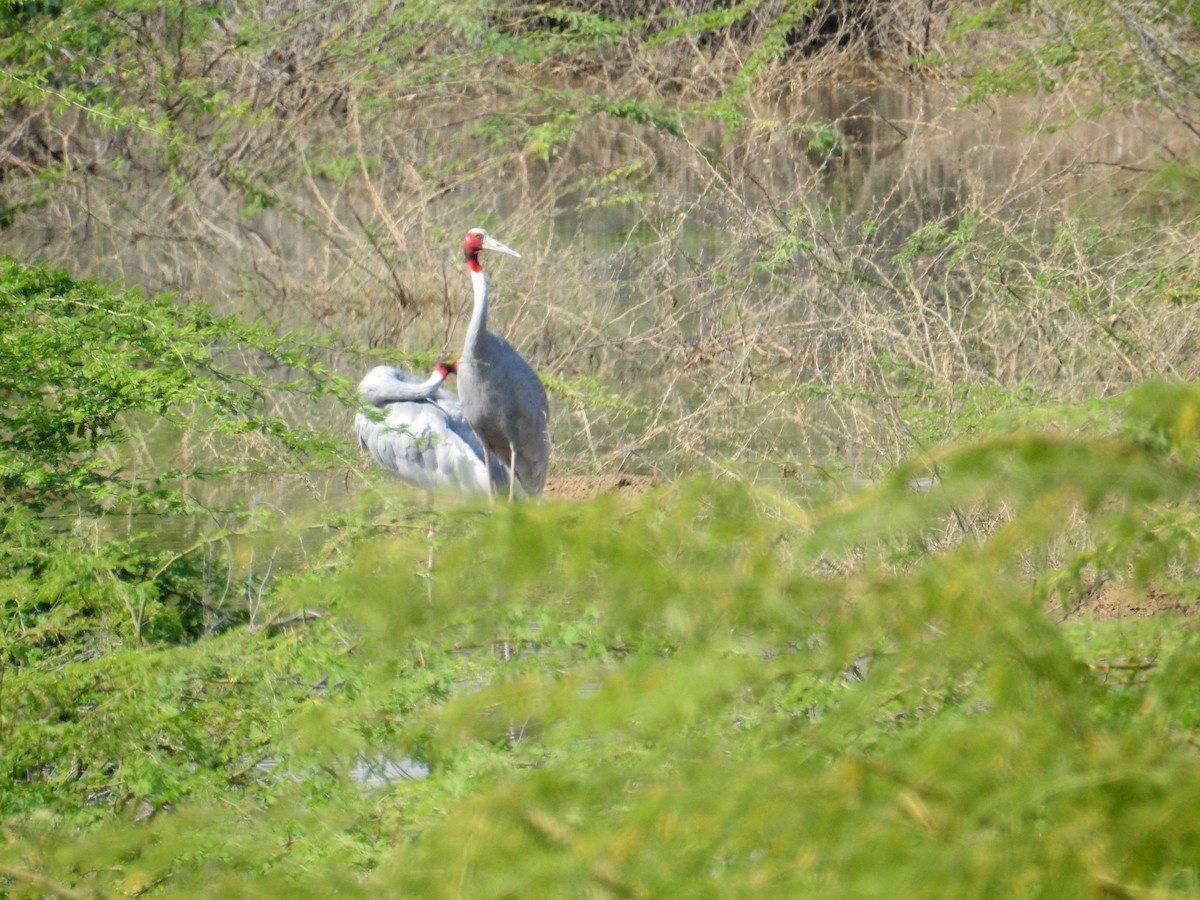crane: (461, 222, 566, 503), (352, 351, 487, 521)
